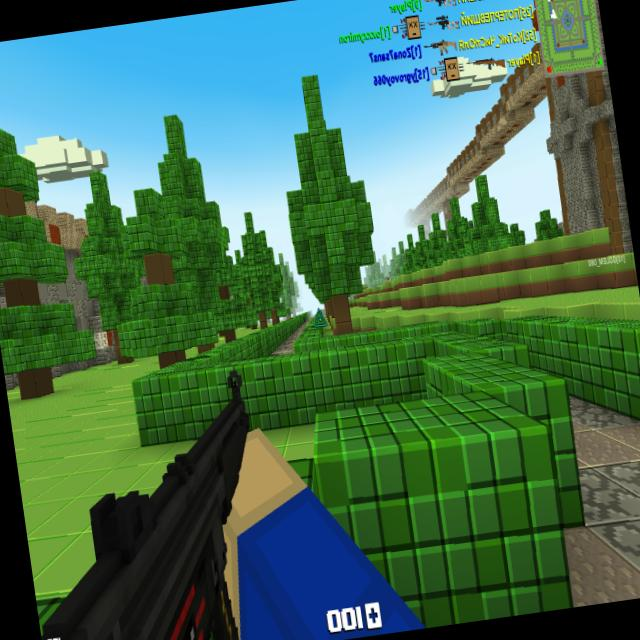enemy: (386, 276, 390, 282)
